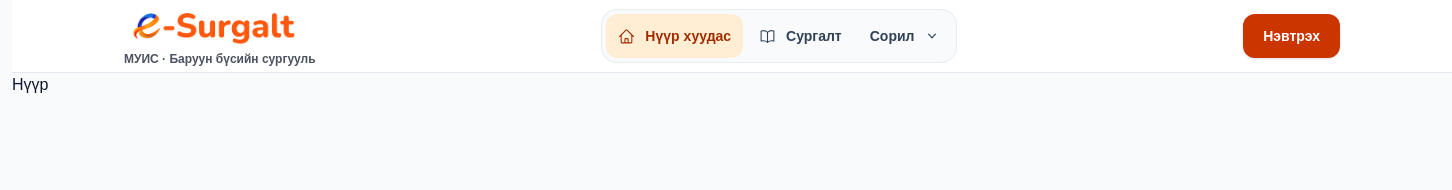
Test: lists ЭЕШ and server categories in one desktop exam menu
The image size is (1452, 190).
Click the button "Сорил".
click(905, 36)  # box [858,14,952,58]
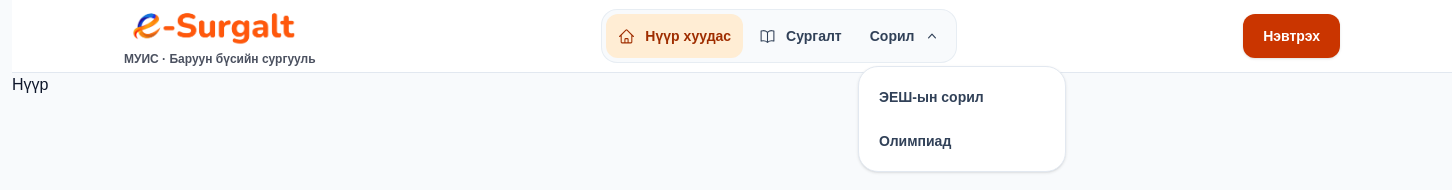
Expected: the menu items read "ЭЕШ-ын сорил", "Олимпиад", in this order
Click the menu item "Олимпиад".
click(915, 141)  # box [879,133,951,149]
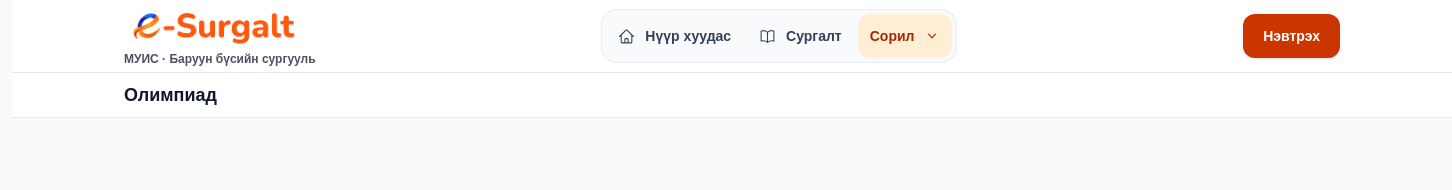
Expected: the heading "Олимпиад" is shown, [124,85,217,105]
Click the button "Сорил".
click(905, 36)  # box [858,14,952,58]
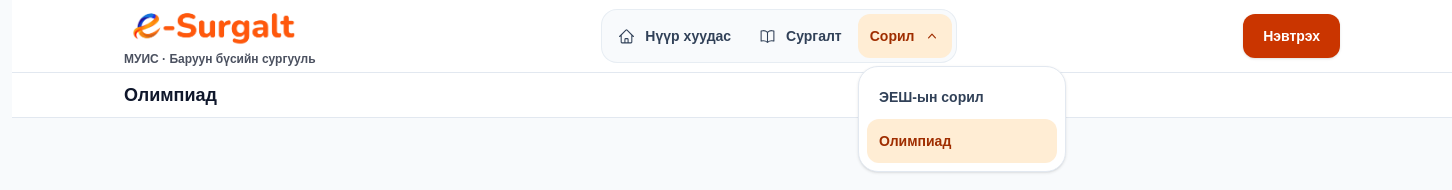
Click the menu item "ЭЕШ-ын сорил".
click(931, 97)  # box [879,89,984,105]
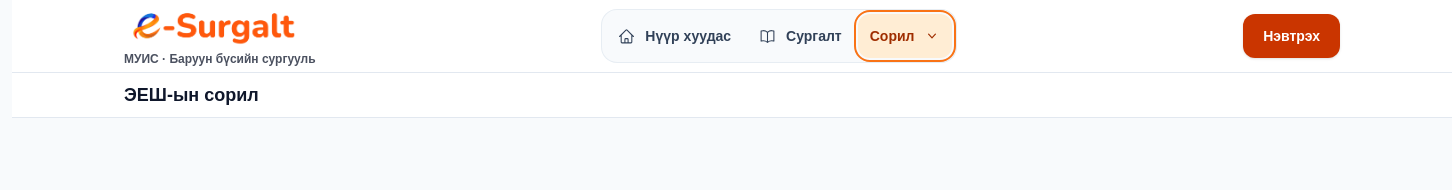
Expected: the heading "ЭЕШ-ын сорил" is shown, [124,85,259,105]
